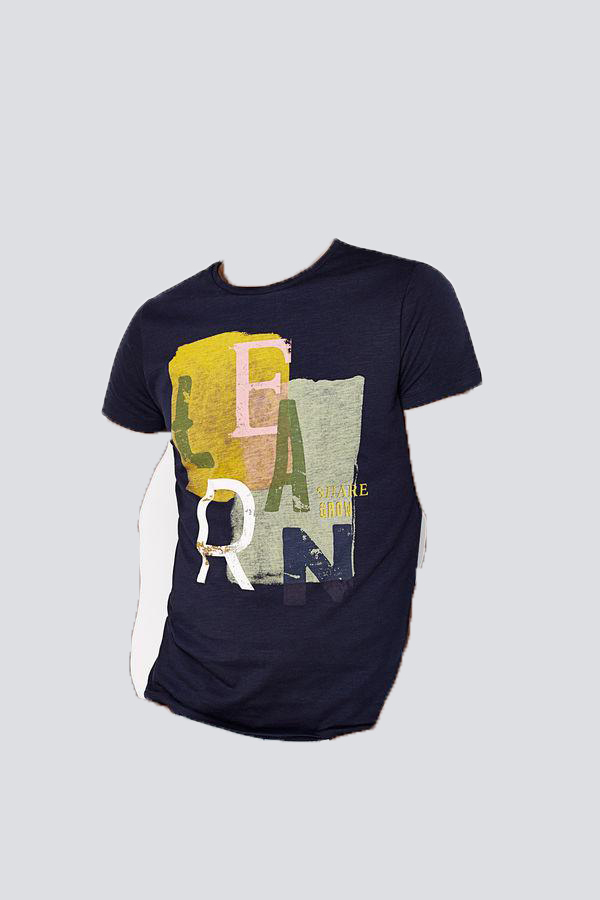teeshirt: (87, 238, 503, 769)
